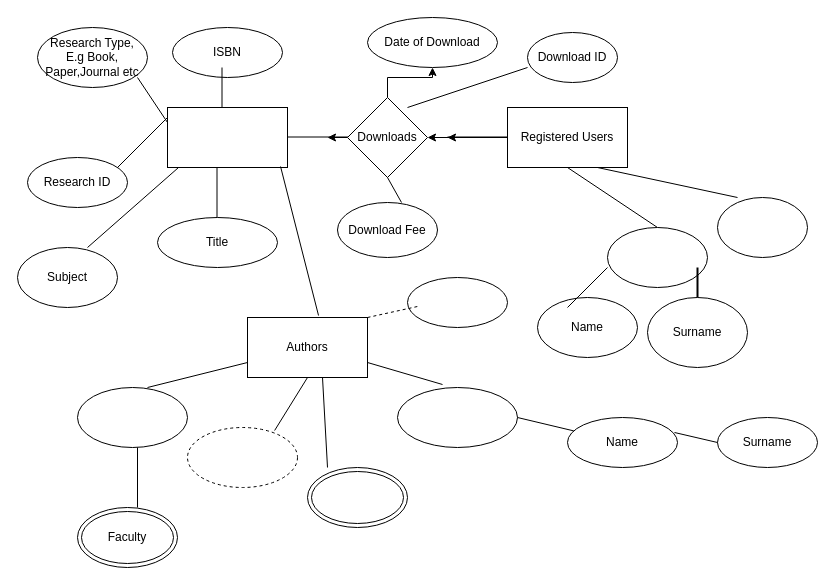
The diagram is 835 pixels wide and 585 high, and some of its shapes have lost their labels. The shapes that lost their labels are listed below. From the top down, each one's centre as x and y in pixels, then its label:
At (x=227, y=137): "Research".
At (x=762, y=227): "User ID".
At (x=657, y=257): "Full Name".
At (x=457, y=302): "Title (e.g Prof, Dr etc)".
At (x=132, y=417): "UCT Department".
At (x=457, y=417): "Author Full Name".
At (x=242, y=457): "Nr of publications".
At (x=357, y=497): "Titles".
